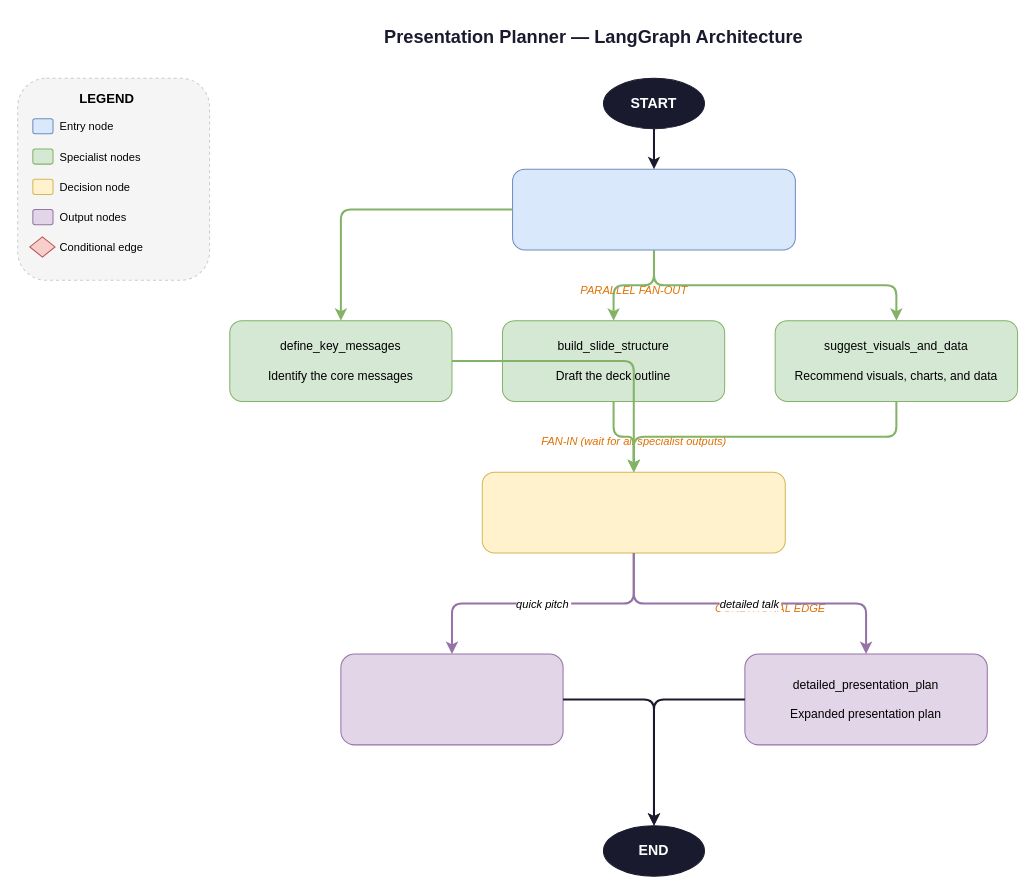
The diagram is 1035 pixels wide and 894 high, and some of its shapes have lost their labels. Each missing label, with the centre of its shape:
"decide_deck_style Choose quick pitch or detailed talk" goes at point 633,512.
"quick_pitch_deck Short, focused deck plan" goes at point 451,699.
"understand_user_requirement Extract topic and audience" goes at point 653,209.
